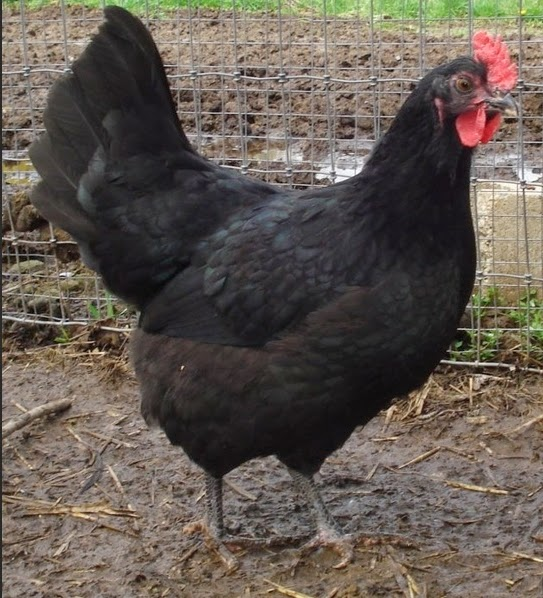Healthy: (20, 14, 517, 539)
